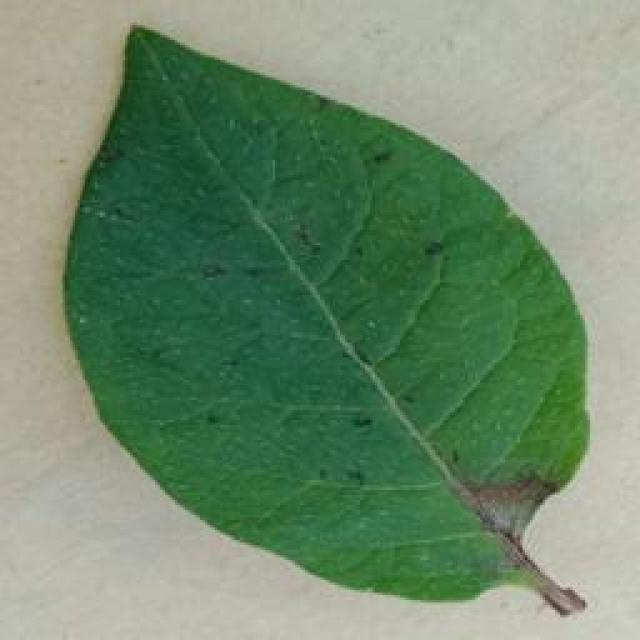Potato_Late_Blight: (51, 27, 607, 632)
